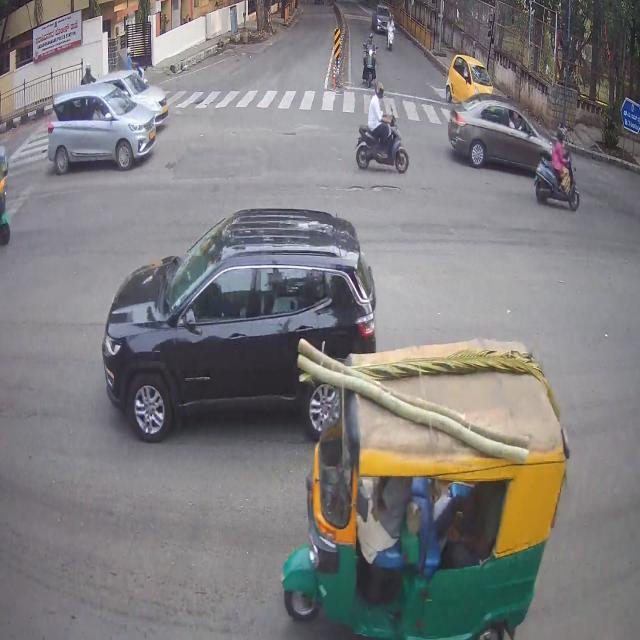Car: (120, 227, 370, 382), (52, 90, 152, 178), (454, 105, 549, 169), (116, 59, 170, 124), (452, 54, 492, 96), (375, 0, 397, 33)
Three-wheeler: (316, 351, 568, 634)
Two-wheelers: (356, 89, 408, 169), (536, 132, 574, 204), (357, 29, 381, 88)
